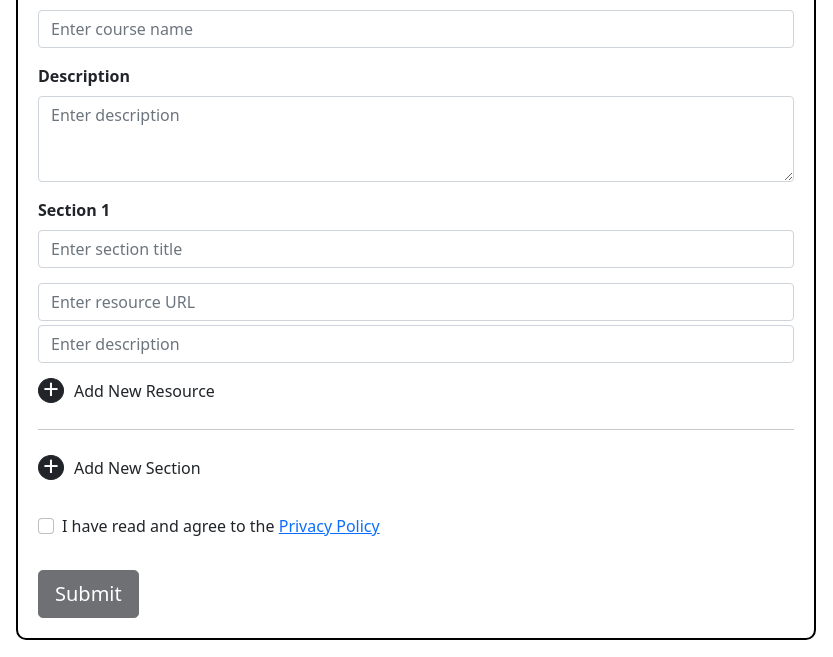
Test: CreateList unit test › submit is only clickable if privacy policy is accepted
The image size is (833, 657).
(page scrolled)
Expected: the button "Submit" is disabled, [38, 570, 139, 618]
Click the checkbox labelled "I have read and agree to the Privacy Policy" at (46, 526), box [38, 518, 54, 534]
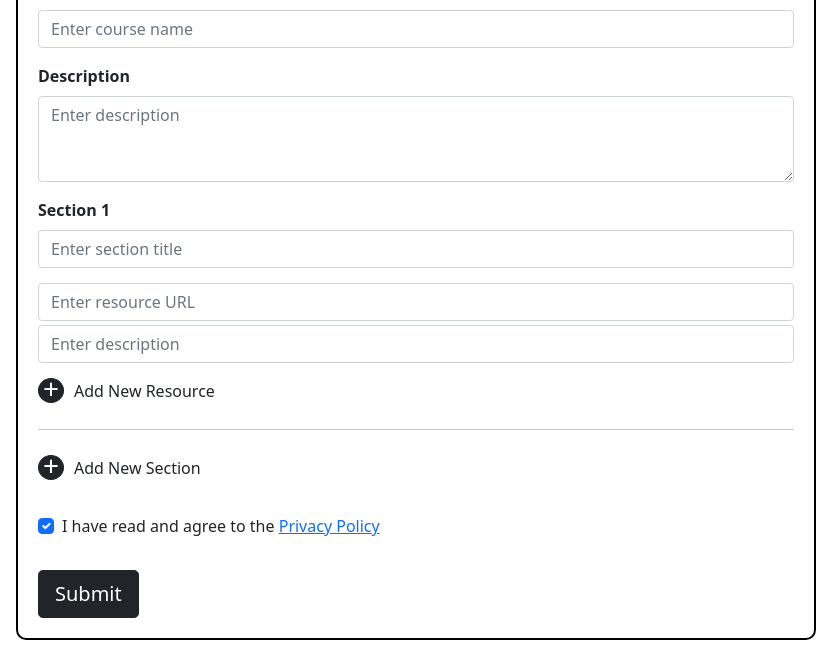
Expected: the button "Submit" is enabled, [38, 570, 139, 618]
